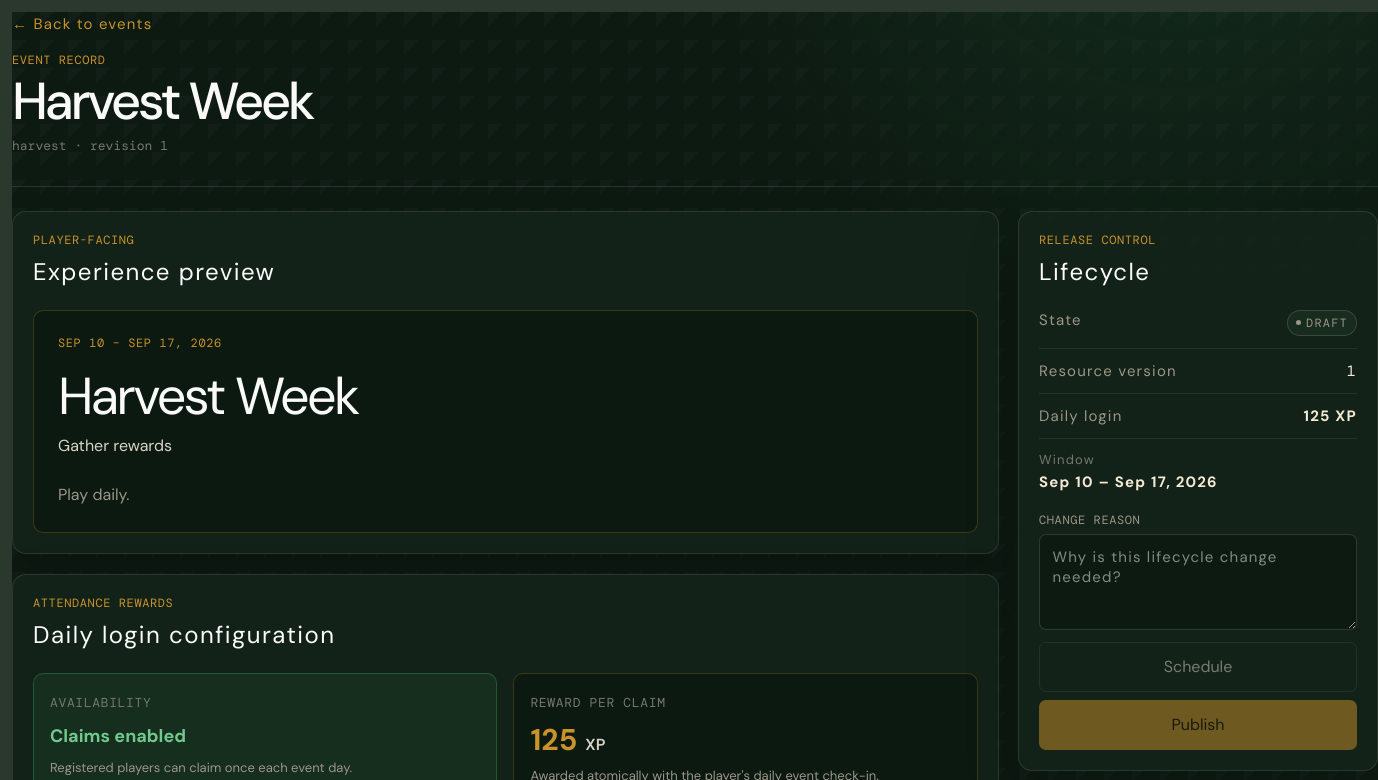
previews and schedules an event with a reason
Check: the heading "Harvest Week" is shown, box [12,77,312,126]
Check: the text "Play daily." is shown, box [58,484,130,505]
Step 1. Type "dates approved" into the text box labelled "Change reason" → (1198, 582), box [1039,534,1357,630]
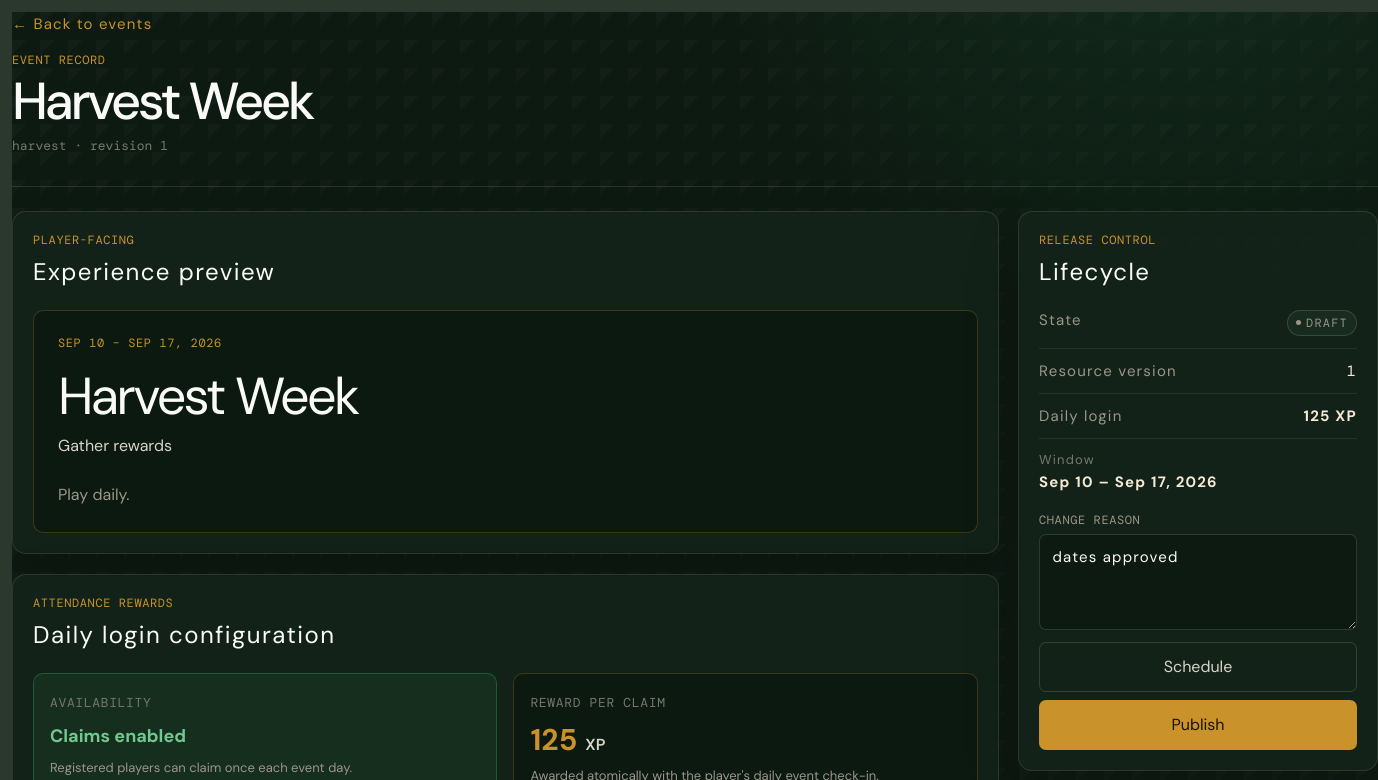
Step 2. Click the button "Schedule" → (1198, 667), box [1039,642,1357,692]
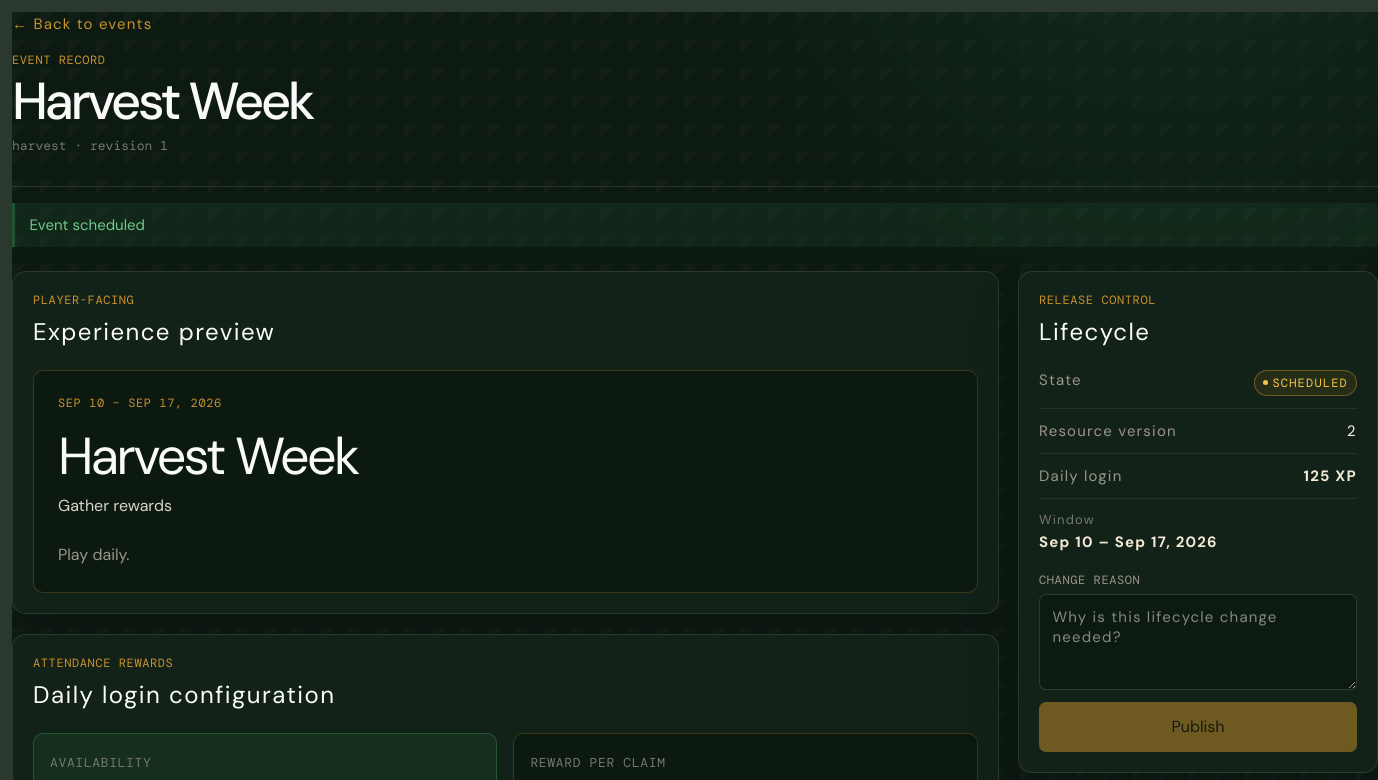
Check: the text "scheduled" is shown, box [1254,370,1357,396]
